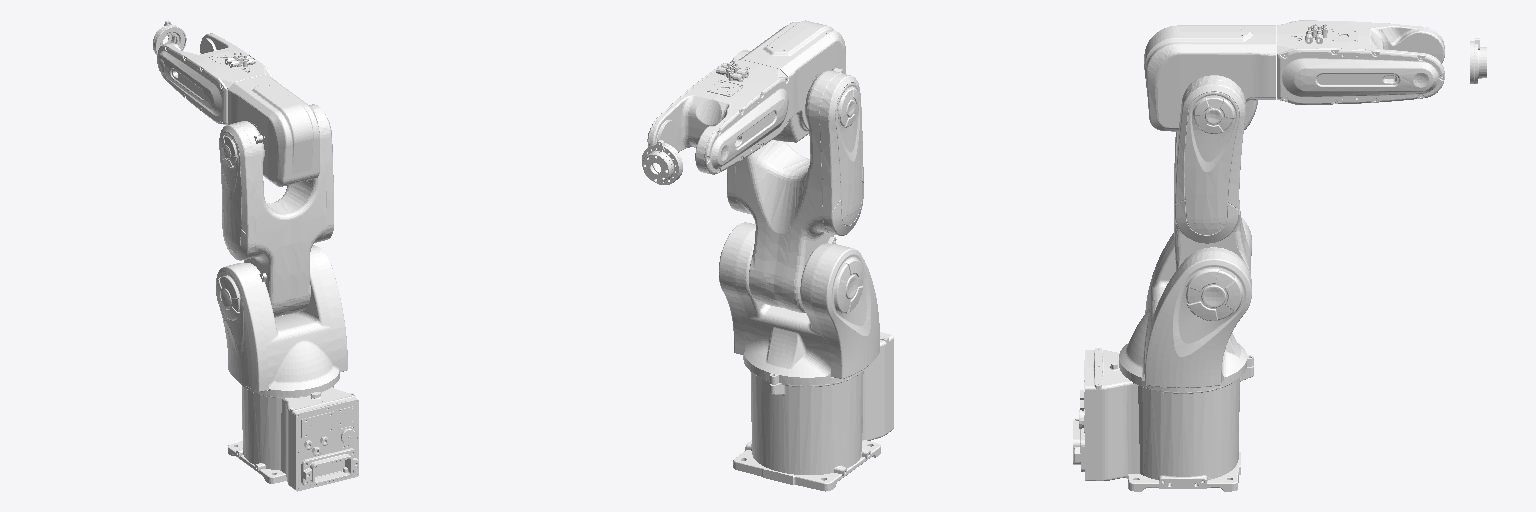
The robot description file, URDF, robot "qj":
<?xml version="1.0" encoding="utf-8"?>
<!-- This URDF was automatically created by SolidWorks to URDF Exporter! Originally created by [author] ([email redacted]) 
     Commit Version: 1.6.0-1-g15f4949  Build Version: 1.6.7594.29634
     For more information, please see http://wiki.ros.org/sw_urdf_exporter -->
<robot
  name="qj">
  <link
    name="base_link">
    <inertial>
      <origin
        xyz="6.64736924327754E-05 -0.0348161919202244 0.100127350786493"
        rpy="0 0 0" />
      <mass
        value="7.83693423586392" />
      <inertia
        ixx="0.0660071690318367"
        ixy="3.6541546431333E-05"
        ixz="1.46410267410148E-05"
        iyy="0.0417391753350889"
        iyz="-0.000958135578445102"
        izz="0.0594259648392284" />
    </inertial>
    <visual>
      <origin
        xyz="0 0 0"
        rpy="0 0 0" />
      <geometry>
        <mesh
          filename="package://qj/meshes/base_link.STL" />
      </geometry>
      <material
        name="">
        <color
          rgba="1 1 1 1" />
      </material>
    </visual>
    <collision>
      <origin
        xyz="0 0 0"
        rpy="0 0 0" />
      <geometry>
        <mesh
          filename="package://qj/meshes/base_link.STL" />
      </geometry>
    </collision>
  </link>
  <link
    name="robot_Link1">
    <inertial>
      <origin
        xyz="-2.37011604839985E-09 0.00548789154085588 5.05780968352318E-13"
        rpy="0 0 0" />
      <mass
        value="0.00405850307768424" />
      <inertia
        ixx="1.31352014578921E-06"
        ixy="2.8457825225517E-13"
        ixz="-1.13973854902485E-11"
        iyy="2.62630942189189E-06"
        iyz="-6.07258843660441E-17"
        izz="1.3134588182111E-06" />
    </inertial>
    <visual>
      <origin
        xyz="0 0 0"
        rpy="0 0 0" />
      <geometry>
        <mesh
          filename="package://qj/meshes/robot_Link1.STL" />
      </geometry>
      <material
        name="">
        <color
          rgba="1 1 1 1" />
      </material>
    </visual>
    <collision>
      <origin
        xyz="0 0 0"
        rpy="0 0 0" />
      <geometry>
        <mesh
          filename="package://qj/meshes/robot_Link1.STL" />
      </geometry>
    </collision>
  </link>
  <joint
    name="robot_joint1"
    type="revolute">
    <origin
      xyz="0 0 0.199"
      rpy="1.5708 0 0" />
    <parent
      link="base_link" />
    <child
      link="robot_Link1" />
    <axis
      xyz="0 1 0" />
    <limit
      lower="-3.14"
      upper="3.14"
      effort="100"
      velocity="1" />
  </joint>
  <link
    name="robot_Link2">
    <inertial>
      <origin
        xyz="-0.00170629239942747 0.179910350771959 0.00880766456089629"
        rpy="0 0 0" />
      <mass
        value="5.81066192757272" />
      <inertia
        ixx="0.0733489264664369"
        ixy="-0.000561202825999126"
        ixz="-7.72245347362286E-05"
        iyy="0.0336909428046885"
        iyz="0.00101563632489222"
        izz="0.0951863397521705" />
    </inertial>
    <visual>
      <origin
        xyz="0 0 0"
        rpy="0 0 0" />
      <geometry>
        <mesh
          filename="package://qj/meshes/robot_Link2.STL" />
      </geometry>
      <material
        name="">
        <color
          rgba="1 1 1 1" />
      </material>
    </visual>
    <collision>
      <origin
        xyz="0 0 0"
        rpy="0 0 0" />
      <geometry>
        <mesh
          filename="package://qj/meshes/robot_Link2.STL" />
      </geometry>
    </collision>
  </link>
  <joint
    name="robot_joint2"
    type="revolute">
    <origin
      xyz="0 0.18 -0.0525"
      rpy="0 0 0" />
    <parent
      link="robot_Link1" />
    <child
      link="robot_Link2" />
    <axis
      xyz="1 0 0" />
    <limit
      lower="-3.14"
      upper="3.14"
      effort="100"
      velocity="1" />
  </joint>
  <link
    name="robot_Link3">
    <inertial>
      <origin
        xyz="-0.000712318989699316 0.0232252507934252 0.00713513827517523"
        rpy="0 0 0" />
      <mass
        value="3.35157581426237" />
      <inertia
        ixx="0.0192805813699751"
        ixy="-5.49269078695565E-05"
        ixz="-1.87699283404937E-05"
        iyy="0.015129033942"
        iyz="0.00134081400802687"
        izz="0.00970487336657894" />
    </inertial>
    <visual>
      <origin
        xyz="0 0 0"
        rpy="0 0 0" />
      <geometry>
        <mesh
          filename="package://qj/meshes/robot_Link3.STL" />
      </geometry>
      <material
        name="">
        <color
          rgba="1 1 1 1" />
      </material>
    </visual>
    <collision>
      <origin
        xyz="0 0 0"
        rpy="0 0 0" />
      <geometry>
        <mesh
          filename="package://qj/meshes/robot_Link3.STL" />
      </geometry>
    </collision>
  </link>
  <joint
    name="robot_joint3"
    type="revolute">
    <origin
      xyz="0 0.34 0"
      rpy="0 0 0" />
    <parent
      link="robot_Link2" />
    <child
      link="robot_Link3" />
    <axis
      xyz="1 0 0" />
    <limit
      lower="-3.14"
      upper="3.14"
      effort="100"
      velocity="1" />
  </joint>
  <link
    name="robot_Link4">
    <inertial>
      <origin
        xyz="-0.000959020315072412 0.00021285685512662 -0.11094694234401"
        rpy="0 0 0" />
      <mass
        value="2.43906675107709" />
      <inertia
        ixx="0.0131245363082067"
        ixy="-9.88453780163395E-06"
        ixz="-0.000292815164876273"
        iyy="0.0145713201530293"
        iyz="-1.86209809132749E-05"
        izz="0.00571468904589574" />
    </inertial>
    <visual>
      <origin
        xyz="0 0 0"
        rpy="0 0 0" />
      <geometry>
        <mesh
          filename="package://qj/meshes/robot_Link4.STL" />
      </geometry>
      <material
        name="">
        <color
          rgba="1 1 1 1" />
      </material>
    </visual>
    <collision>
      <origin
        xyz="0 0 0"
        rpy="0 0 0" />
      <geometry>
        <mesh
          filename="package://qj/meshes/robot_Link4.STL" />
      </geometry>
    </collision>
  </link>
  <joint
    name="robot_joint4"
    type="revolute">
    <origin
      xyz="0 0.047 -0.108"
      rpy="0 0 0" />
    <parent
      link="robot_Link3" />
    <child
      link="robot_Link4" />
    <axis
      xyz="0 0 1" />
    <limit
      lower="-3.14"
      upper="3.14"
      effort="100"
      velocity="1" />
  </joint>
  <link
    name="robot_Link5">
    <inertial>
      <origin
        xyz="-0.0658860431022918 0.0488951461483525 -0.0548861496464178"
        rpy="0 0 0" />
      <mass
        value="0.469916921543025" />
      <inertia
        ixx="0.00065664630227944"
        ixy="-2.09449792539438E-06"
        ixz="8.59995667638702E-07"
        iyy="0.000451259237878058"
        iyz="1.35203948143446E-06"
        izz="0.000651353379666762" />
    </inertial>
    <visual>
      <origin
        xyz="0.065885 -0.092 0.054878"
        rpy="0 0  0" />
      <geometry>
        <mesh
          filename="package://qj/meshes/robot_Link5.STL" />
      </geometry>
      <material
        name="">
        <color
          rgba="1 1 1 1" />
      </material>
    </visual>
    <collision>
      <origin
        xyz="0.065885 -0.092 0.054878"
        rpy="0 0 0" />
      <geometry>
        <mesh
          filename="package://qj/meshes/robot_Link5.STL" />
      </geometry>
    </collision>
  </link>
  <joint
    name="robot_joint5"
    type="revolute">
    <!--origin
      xyz="-0.065885 0.054878 -0.332"
      rpy="1.5708 0 3.1416" /-->
    <origin
      xyz="0 0 -0.248"
      rpy="1.5708 0 3.1416" />
    <parent
      link="robot_Link4" />
    <child
      link="robot_Link5" />
    <axis
      xyz="1 0 0" />
    <limit
      lower="-3.14"
      upper="3.14"
      effort="100"
      velocity="1" />
  </joint>
  <link
    name="robot_Link6">
    <inertial>
      <origin
        xyz="2.15415157178333E-09 -0.0957156938530383 0.000675361584537959"
        rpy="0 0 0" />
      <mass
        value="0.0568716556943406" />
      <inertia
        ixx="2.6514448133587E-05"
        ixy="-7.23982633991358E-13"
        ixz="-4.636191644917E-08"
        iyy="4.4639813093132E-05"
        iyz="2.92097209564768E-08"
        izz="2.5137738404192E-05" />
    </inertial>
    <visual>
      <origin
        xyz="0 -0.001 0"
        rpy="0 0 0" />
      <geometry>
        <mesh
          filename="package://qj/meshes/robot_Link6.STL" />
      </geometry>
      <material
        name="">
        <color
          rgba="1 1 1 1" />
      </material>
    </visual>
    <collision>
      <origin
        xyz="0 -0.001 0"
        rpy="0 0 0" />
      <geometry>
        <mesh
          filename="package://qj/meshes/robot_Link6.STL" />
      </geometry>
    </collision>
  </link>
  <joint
    name="robot_joint6"
    type="revolute">
    <!--origin
      xyz="-0.065885 0.085 -0.054878"
      rpy="0 0 0" /-->
    <origin
      xyz="0 0 0"
      rpy="0 0 0" />
    <parent
      link="robot_Link5" />
    <child
      link="robot_Link6" />
    <axis
      xyz="0 1 0" />
    <limit
      lower="-3.14"
      upper="3.14"
      effort="0"
      velocity="0" />
  </joint>
</robot>

--- What the picture shows (computed from the rendered views, not written in the file) ---
Views: 3 orthographic renders of the robot side by side, from view 1: azimuth 30°, elevation 25°; view 2: azimuth 150°, elevation 25°; view 3: azimuth 270°, elevation 25°.
Robot: qj — 7 links, 6 joints (6 revolute); root link base_link; default pose: all joints at 0.
Links seen in each view (by area): view 1: robot_Link2, robot_Link1, base_link, robot_Link3, robot_Link4, robot_Link6; view 2: robot_Link2, robot_Link1, base_link, robot_Link4, robot_Link3, robot_Link6; view 3: base_link, robot_Link1, robot_Link4, robot_Link2, robot_Link3, robot_Link6.
Boxes of the visible links, <box> form: robot_Link2: <box>219,104,333,317</box>; robot_Link1: <box>216,245,347,396</box>; base_link: <box>228,386,358,491</box>; robot_Link3: <box>228,75,319,186</box>; robot_Link4: <box>157,33,272,124</box>; robot_Link6: <box>153,20,186,54</box>; robot_Link2: <box>727,50,863,312</box>; robot_Link1: <box>719,222,879,385</box>; base_link: <box>733,332,893,491</box>; robot_Link4: <box>647,60,788,174</box>; robot_Link3: <box>739,20,845,142</box>; robot_Link6: <box>642,140,682,184</box>; base_link: <box>1073,348,1253,491</box>; robot_Link1: <box>1119,217,1253,391</box>; robot_Link4: <box>1277,20,1444,104</box>; robot_Link2: <box>1174,75,1250,274</box>; robot_Link3: <box>1144,25,1275,131</box>; robot_Link6: <box>1470,38,1486,83</box>.
Bounding box of the posed robot: 0.2418 × 0.7111 × 0.844 m (x, y, z).
6 mesh visuals loaded from 7 distinct referenced files (6 binary STL); not drawn: 1 (reference not matched to a file when rendering).
